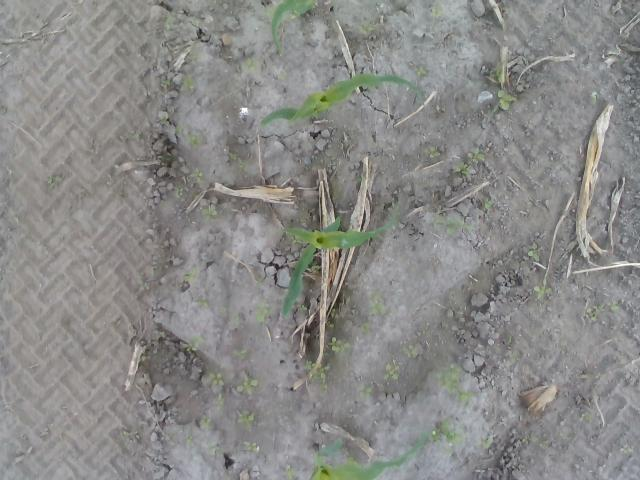Maize: (278, 208, 398, 316), (259, 74, 425, 126), (306, 436, 432, 480), (268, 0, 318, 58)
Weeds: (435, 361, 477, 400), (427, 414, 465, 456), (301, 352, 331, 395), (432, 214, 474, 238), (590, 304, 622, 322), (382, 359, 402, 384), (326, 337, 353, 355), (236, 377, 259, 398), (496, 88, 516, 112), (366, 290, 385, 315), (534, 278, 552, 300), (200, 205, 219, 225), (186, 128, 204, 148), (468, 146, 488, 163), (182, 335, 201, 352), (240, 56, 257, 75), (253, 303, 270, 322), (527, 240, 541, 262), (207, 368, 224, 386), (238, 408, 255, 426), (453, 160, 472, 176), (182, 262, 198, 280), (400, 344, 417, 360), (357, 382, 372, 400), (358, 22, 376, 36), (232, 348, 249, 362), (481, 432, 494, 450), (180, 74, 193, 90), (619, 442, 633, 456), (286, 465, 298, 480), (192, 296, 208, 307), (432, 7, 448, 18), (47, 175, 64, 185), (276, 70, 290, 82), (428, 144, 438, 160), (244, 440, 257, 452), (230, 314, 241, 328), (201, 414, 210, 431), (482, 198, 494, 210), (215, 393, 224, 409), (174, 186, 186, 198), (191, 168, 204, 178), (228, 151, 238, 164), (160, 78, 173, 88), (238, 158, 250, 168), (416, 66, 427, 76), (360, 324, 370, 335), (420, 327, 430, 337), (590, 92, 599, 103), (174, 126, 183, 136), (330, 307, 338, 318), (184, 435, 193, 444), (347, 457, 357, 465), (324, 320, 334, 328), (522, 434, 530, 444), (582, 414, 592, 422), (504, 334, 512, 344), (160, 116, 168, 125), (298, 304, 308, 311)
